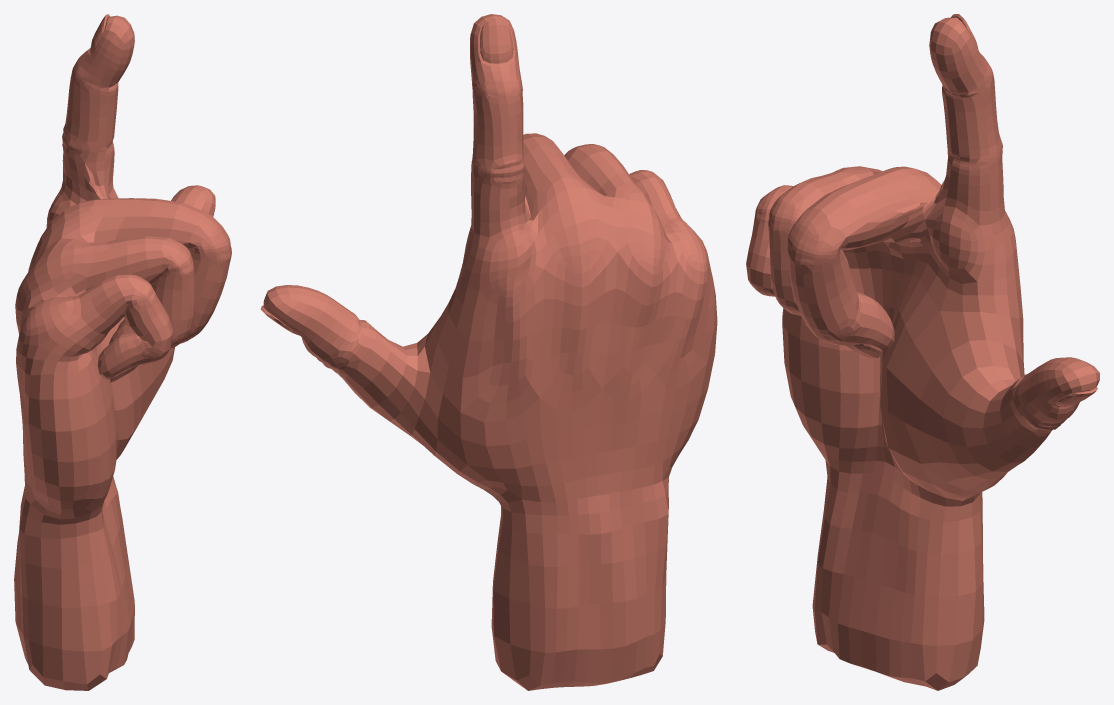
File: laam.glb
The picture shows the model from 3 angles, left to right: view 1: azimuth 30°, elevation 25°; view 2: azimuth 150°, elevation 25°; view 3: azimuth 270°, elevation 25°; orthographic projection. The views are drawn at different scales.
Visible parts, largest first — view 1: ZBrushPolyMesh3D; view 2: ZBrushPolyMesh3D; view 3: ZBrushPolyMesh3D.
Boxes of the visible parts, x1=… form: ZBrushPolyMesh3D: x1=14, y1=14, x2=231, y2=690; ZBrushPolyMesh3D: x1=260, y1=14, x2=717, y2=690; ZBrushPolyMesh3D: x1=746, y1=14, x2=1099, y2=690.
Bounding box in the file's own units: 2.59 × 5.07 × 2.39.
